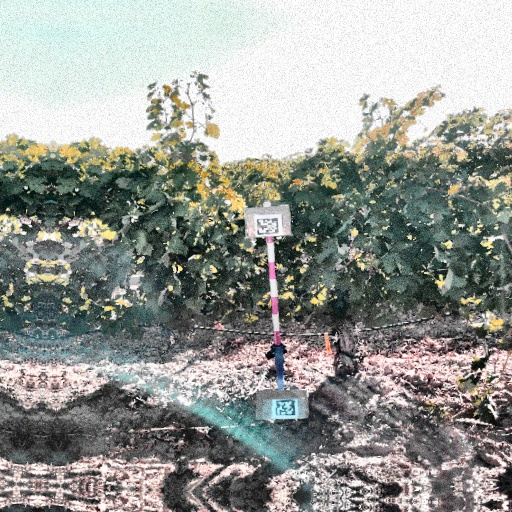QR: (255, 216, 280, 237), (272, 399, 297, 418)
